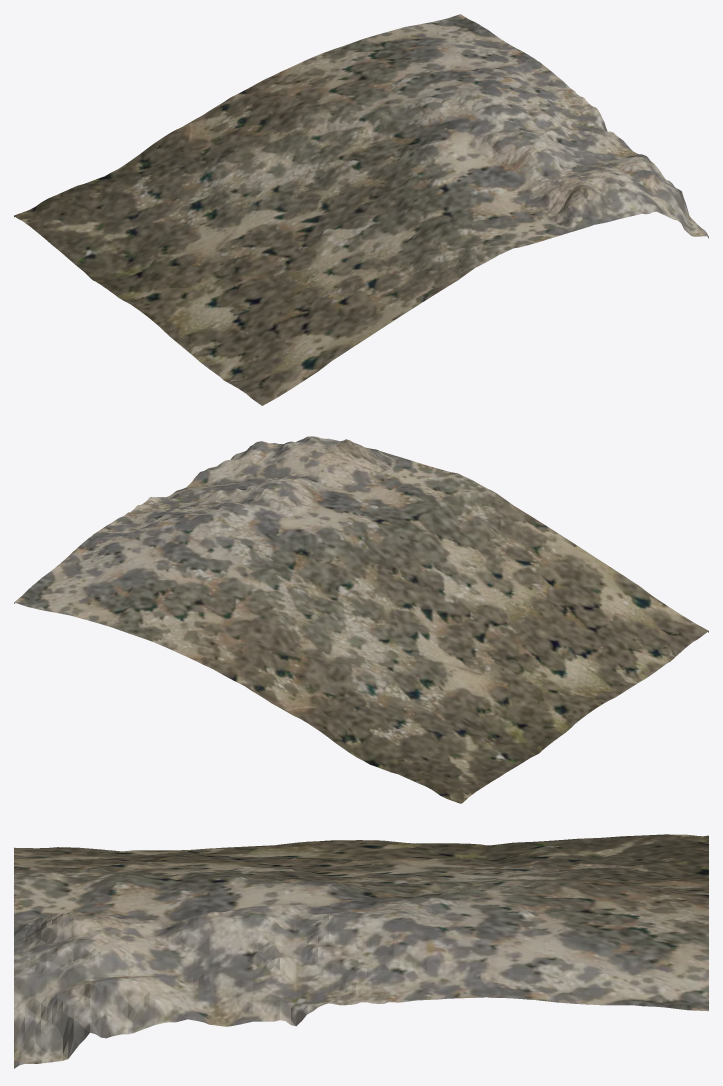
3 views of the same model, one above another, from view 1: azimuth 30°, elevation 25°; view 2: azimuth 150°, elevation 25°; view 3: azimuth 270°, elevation 25° (orthographic). The views are drawn at different scales.
Bounding box in the file's own units: 250 × 69.18 × 241.
1 material, 1 textured.
